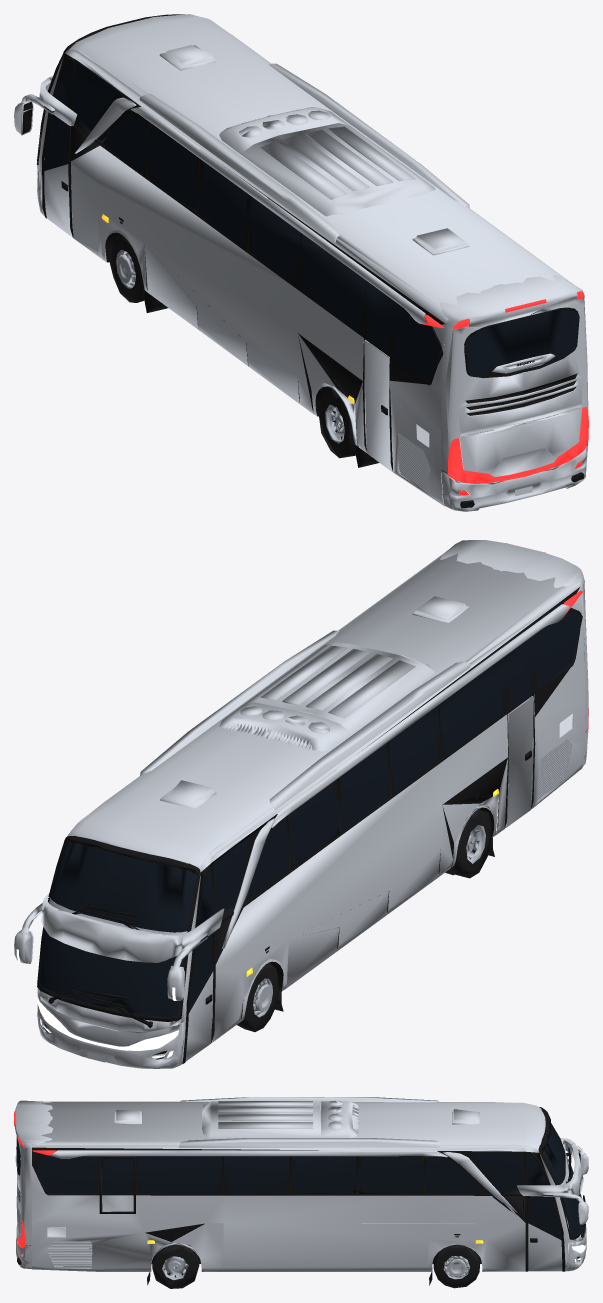
The model's file is car_bus.glb.
3 views of the same model, one above another, from view 1: azimuth 30°, elevation 25°; view 2: azimuth 150°, elevation 25°; view 3: azimuth 270°, elevation 25° (orthographic). The views are drawn at different scales.
Visible parts, largest first — view 1: body, wheel_r, wheel_f; view 2: body, wheel_r, wheel_f; view 3: body, wheel_r, wheel_f.
Part boxes in pixels (box(x1,y1,x2,y2)): body: box(14, 14, 588, 511); wheel_r: box(318, 389, 355, 458); wheel_f: box(110, 234, 144, 302); body: box(14, 540, 588, 1068); wheel_r: box(445, 809, 492, 878); wheel_f: box(237, 963, 279, 1031); body: box(14, 1097, 588, 1285); wheel_r: box(151, 1244, 199, 1288); wheel_f: box(433, 1244, 480, 1288).
Bounding box in the file's own units: 2.97 × 3.9 × 13.27.
2 materials, 1 textured.
